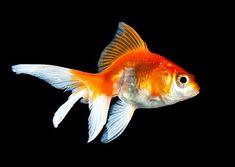goldfish: (37, 45, 206, 130)
